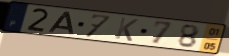2: (26, 8, 50, 33)
7: (84, 13, 113, 39), (152, 20, 173, 46)
8: (176, 24, 202, 49)
A: (46, 11, 76, 36)
K: (113, 17, 140, 43)
